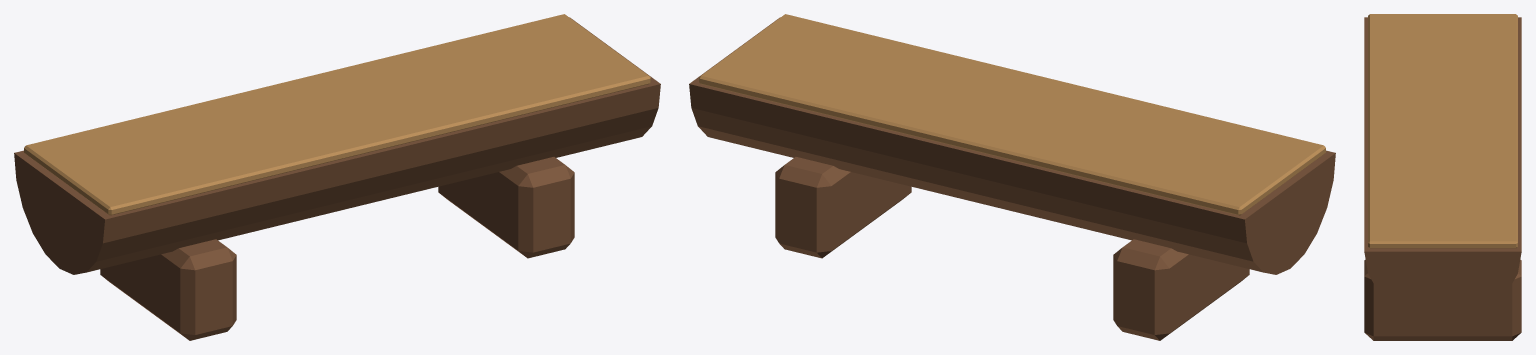
Rendered from 08_Split_Log_Bench.glb.
3 views of the same model, side by side, from view 1: azimuth 30°, elevation 25°; view 2: azimuth 150°, elevation 25°; view 3: azimuth 270°, elevation 25° (orthographic). The views are drawn at different scales.
Visible parts, largest first — view 1: 08_Split_Log_Bench__Body; view 2: 08_Split_Log_Bench__Body; view 3: 08_Split_Log_Bench__Body.
Part boxes in pixels (x1,y1,x2,y2): 08_Split_Log_Bench__Body: (14, 14, 660, 340); 08_Split_Log_Bench__Body: (689, 14, 1335, 340); 08_Split_Log_Bench__Body: (1364, 14, 1521, 340).
Bounding box in the file's own units: 2.96 × 0.79 × 0.84.
1 material, 1 textured.
